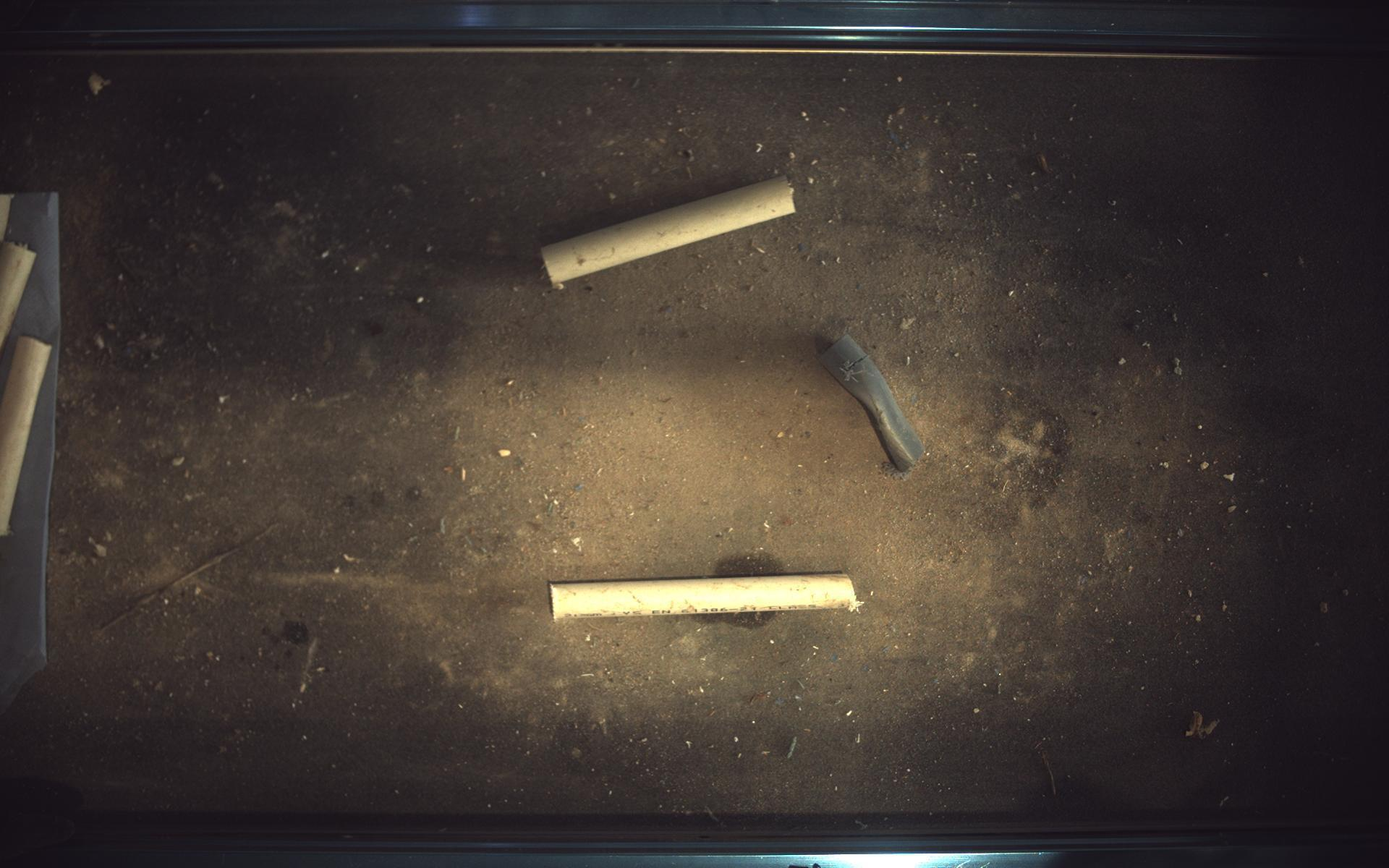pipes: (542, 176, 797, 286), (550, 574, 862, 621), (821, 334, 925, 472), (1, 336, 50, 536), (1, 241, 34, 349)
